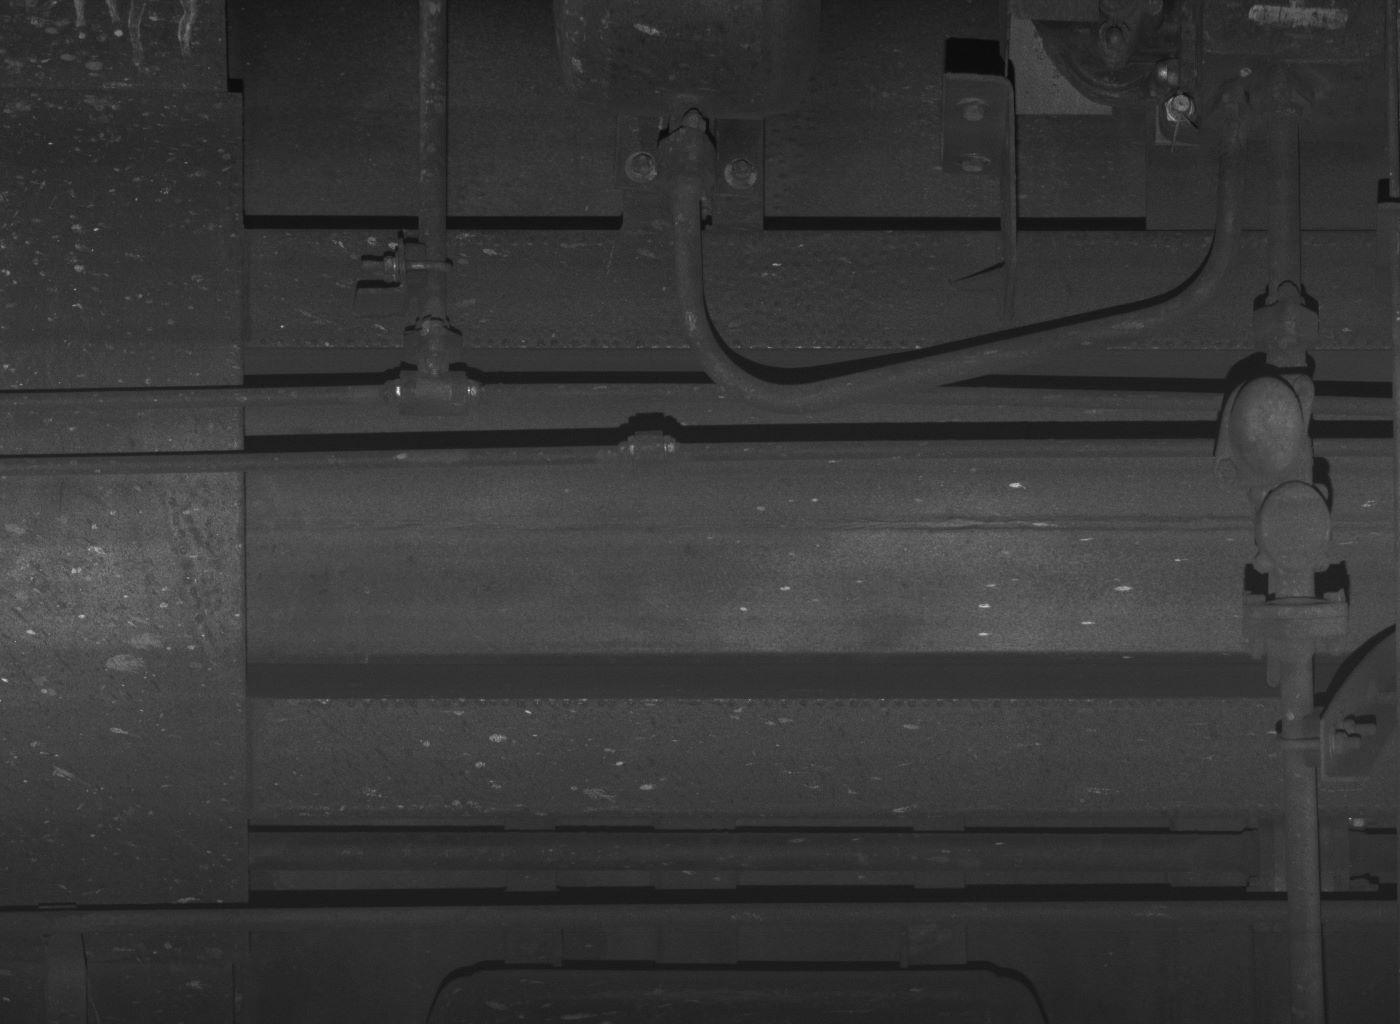normal: (1253, 483, 1334, 573)
